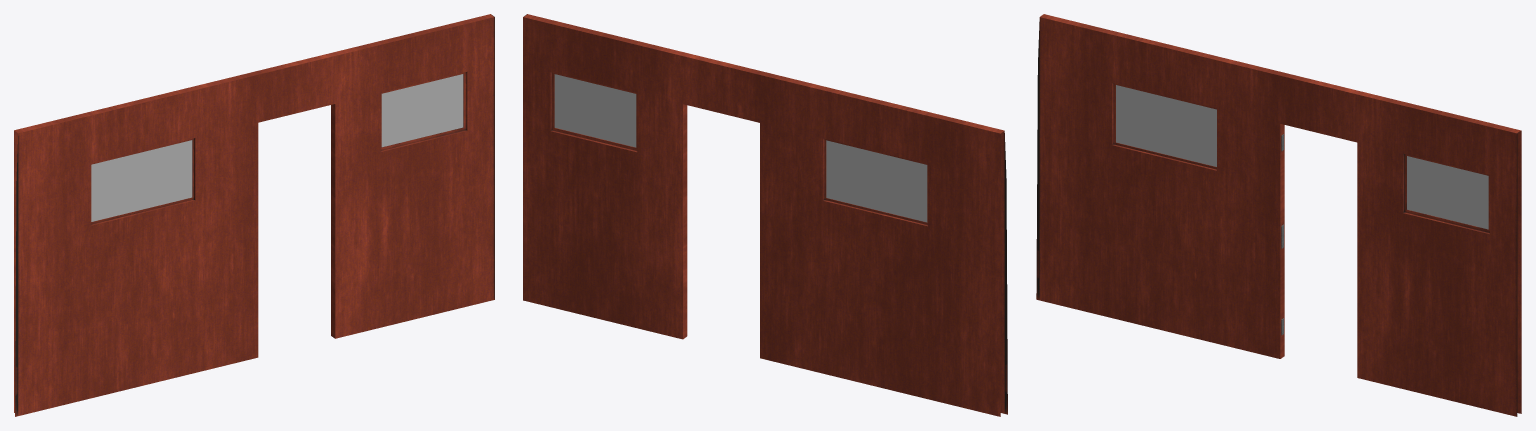
The model's file is SM_Bed_Wall.fbx.
3 renders of one model, left to right at view 1: azimuth 30°, elevation 25°; view 2: azimuth 150°, elevation 25°; view 3: azimuth 330°, elevation 25°, orthographic.
Visible parts, largest first — view 1: SM_Bed_Wall; view 2: SM_Bed_Wall; view 3: SM_Bed_Wall.
Boxes of the visible parts, x1,y1,x2,y2 form: SM_Bed_Wall: (14, 14, 494, 416); SM_Bed_Wall: (523, 14, 1007, 416); SM_Bed_Wall: (1036, 14, 1521, 416).
Size of the model in its own units: 460 by 6.93 by 259.
Materials: 2 (1 with a texture image).
